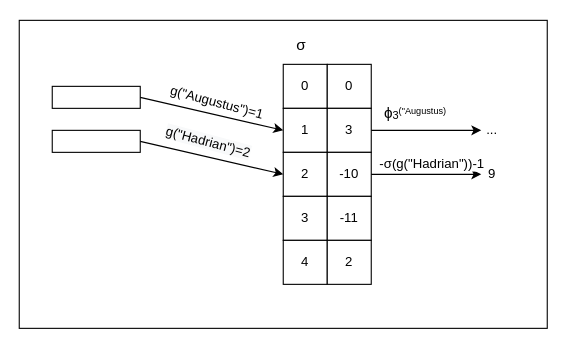
The diagram is 567 pixels wide and 348 high, and some of its shapes have lost their labels. Here are the shapes that lost their labels. From the top down, the centre of each, then its label:
point (95, 96): "Augustus"
point (95, 140): "Hadrian"
